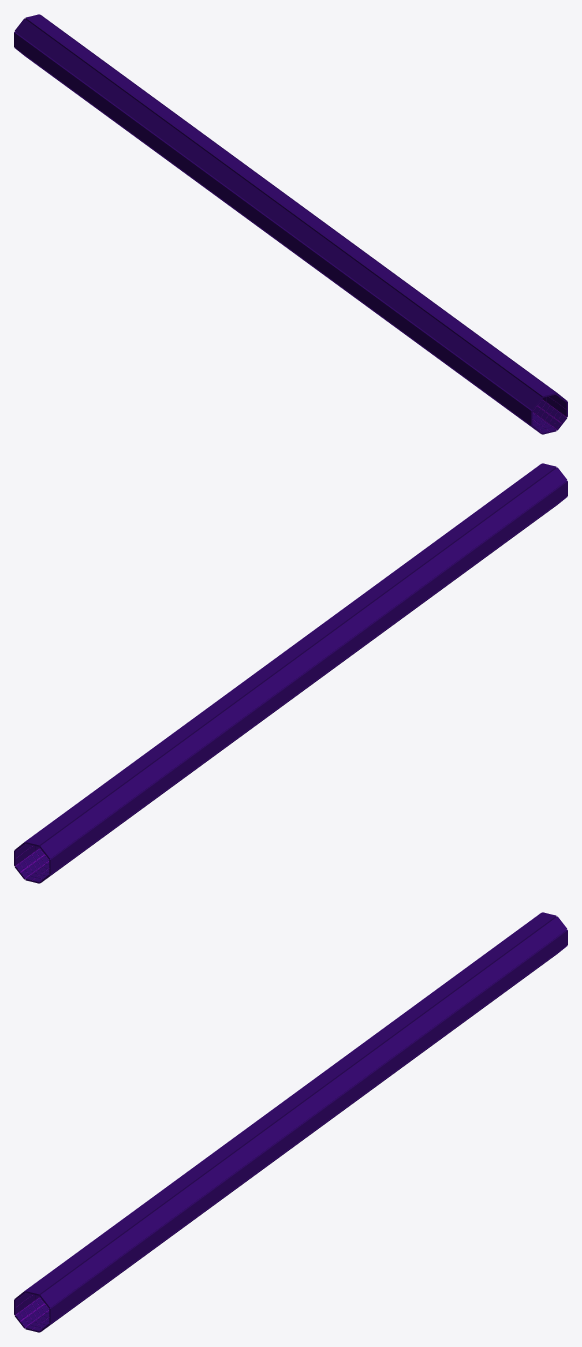
The model's file is 360tunnel.fbx.
The picture shows the model from 3 angles, top to bottom: view 1: azimuth 30°, elevation 25°; view 2: azimuth 150°, elevation 25°; view 3: azimuth 330°, elevation 25°; orthographic projection.
Visible parts, largest first — view 1: pCube1.003; view 2: pCube1.003; view 3: pCube1.003.
Boxes of the visible parts, x1,y1,x2,y2 form: pCube1.003: [14, 14, 567, 434]; pCube1.003: [14, 463, 567, 883]; pCube1.003: [14, 912, 567, 1332].
Size of the model in its own units: 5.23 by 5.23 by 128.
